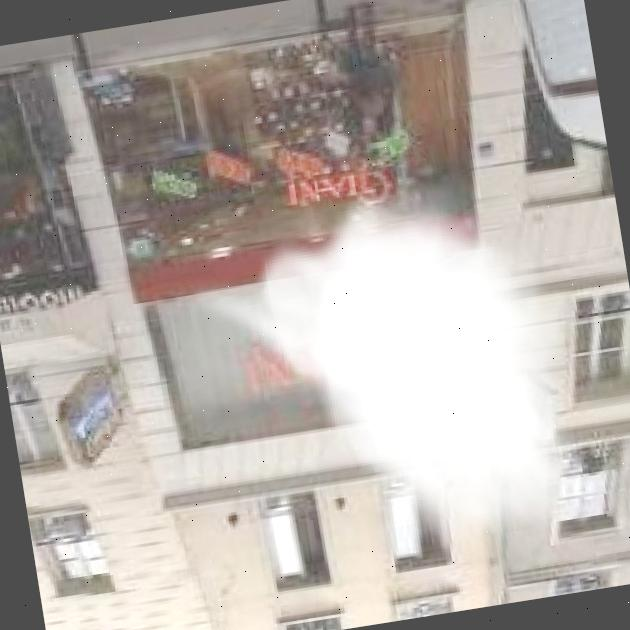smoke: (172, 156, 609, 605)
